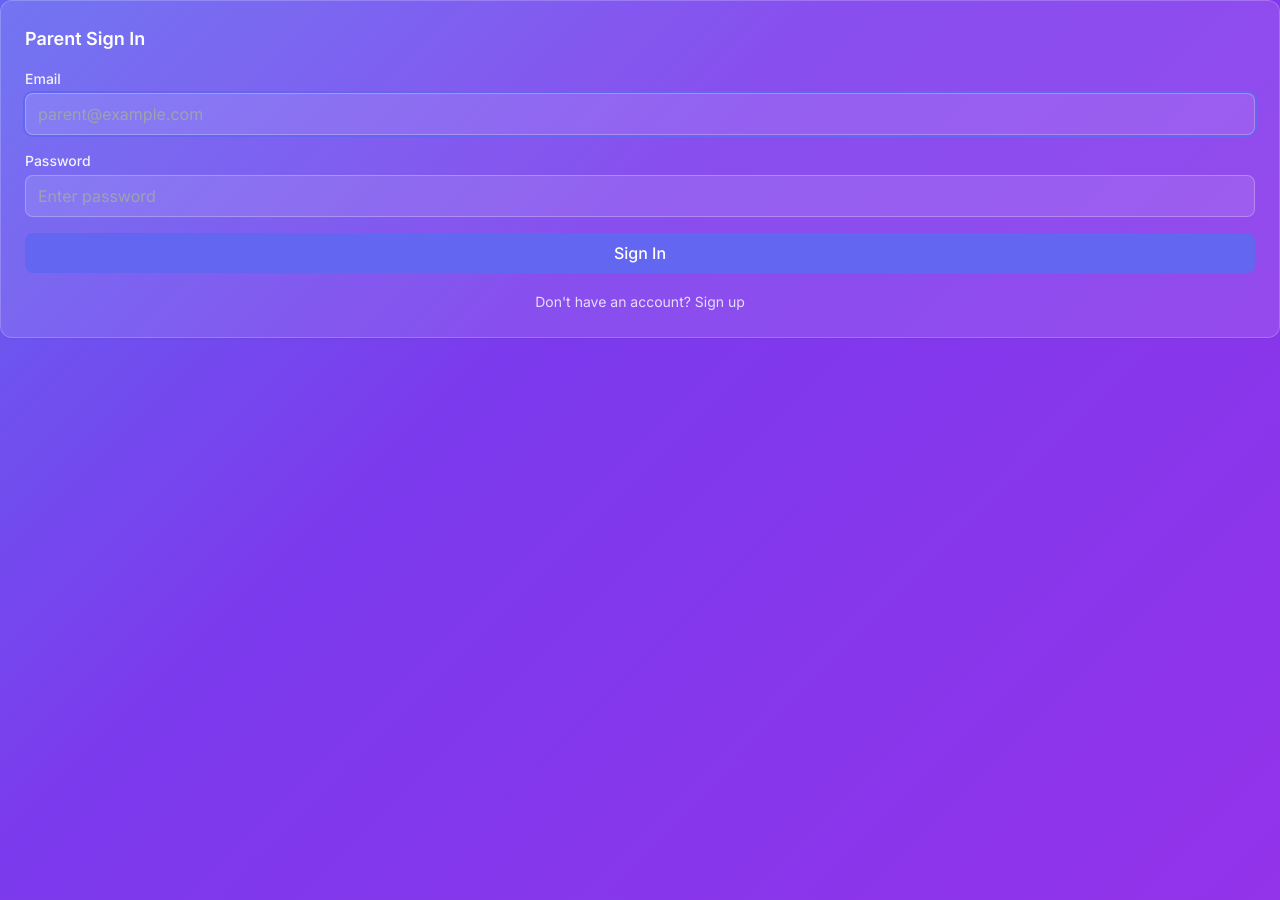
Test: AuthForm › sign in mode (default) › should show validation error for empty password
The width and height of the screenshot is (1280, 900).
Type "test@test.com" into the field labelled "Email" at x=640, y=114, box [25,93,1255,135]
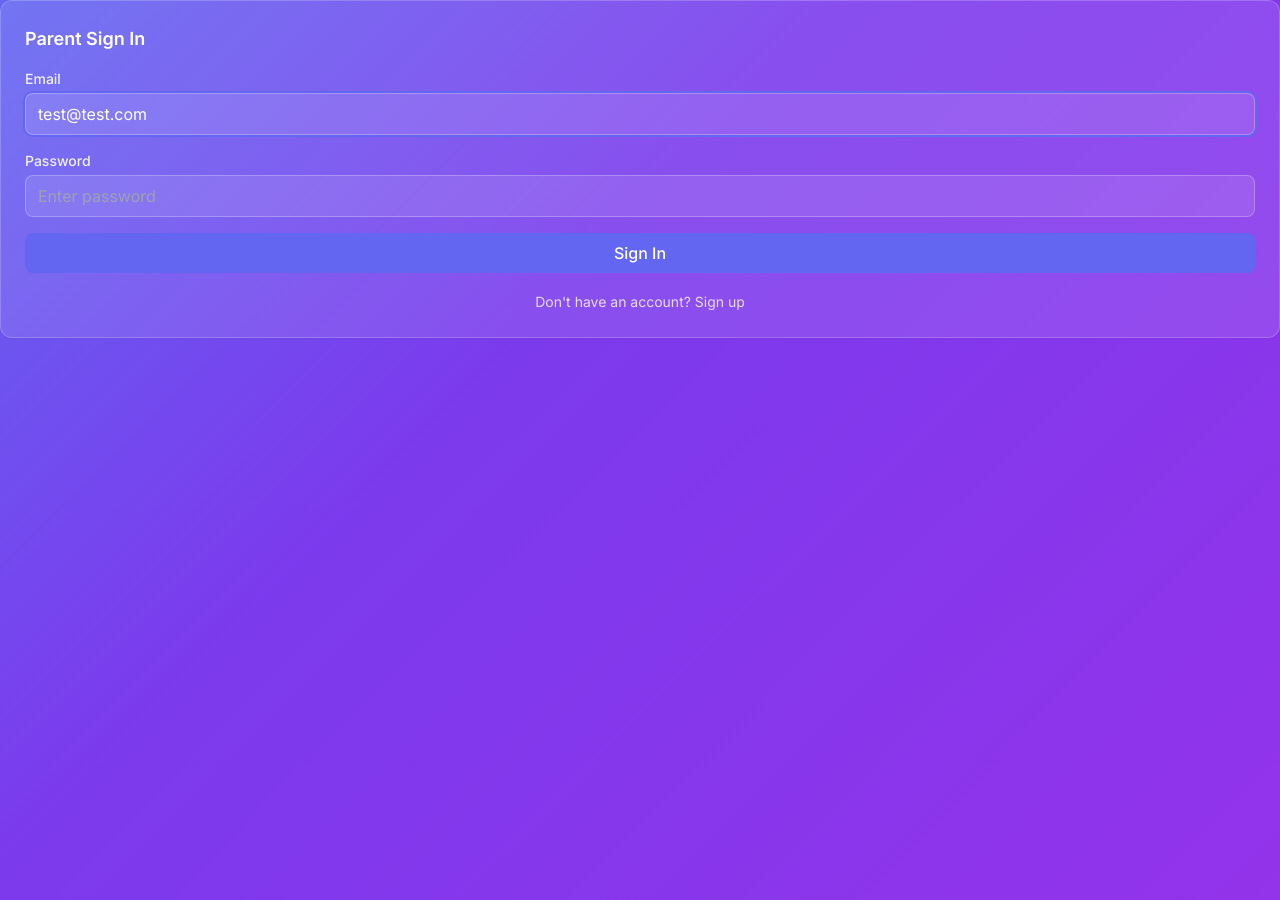
Click the button "Sign In" at x=640, y=253, box [25,233,1255,273]
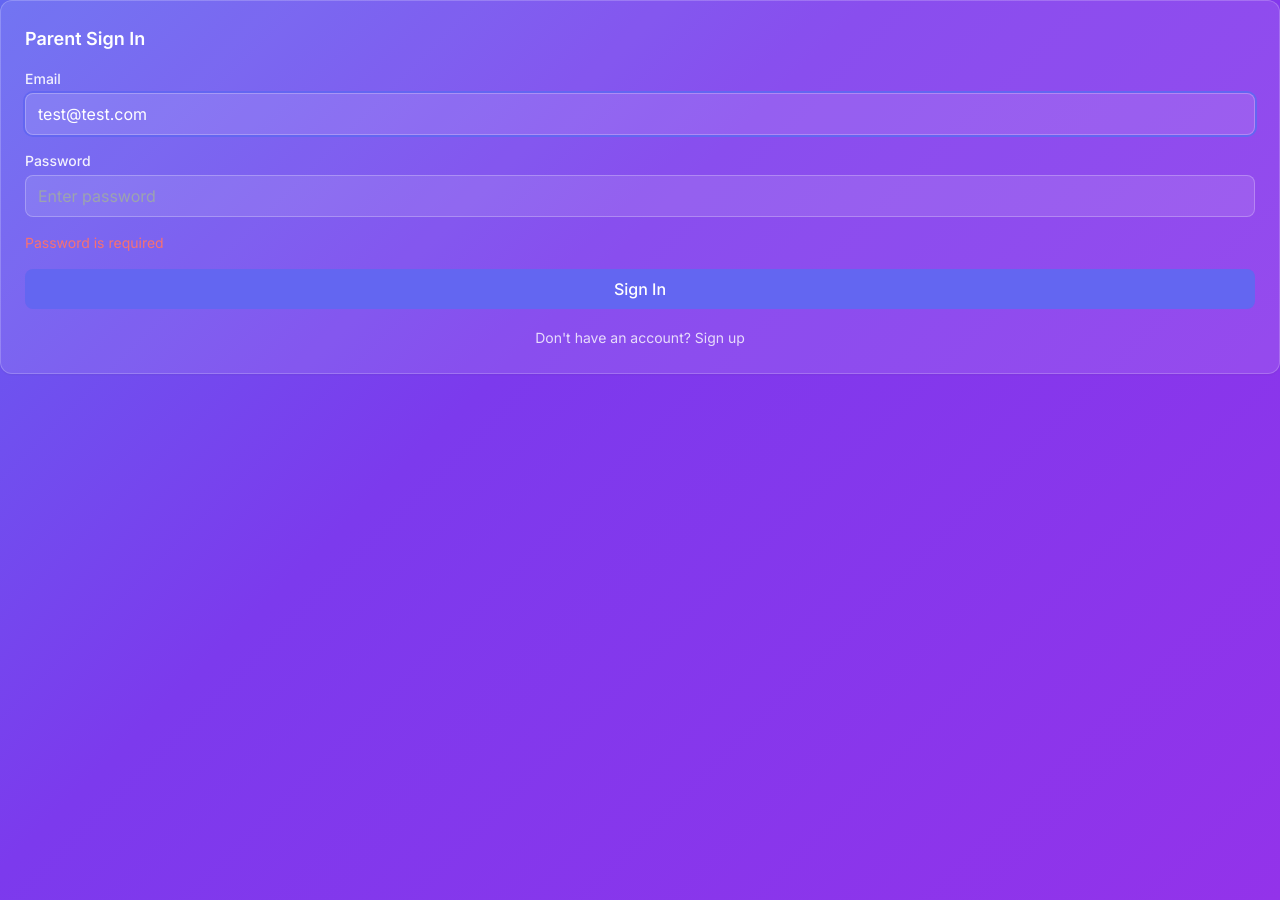
Now the text "Password is required" is shown, box [25,234,164,251]
